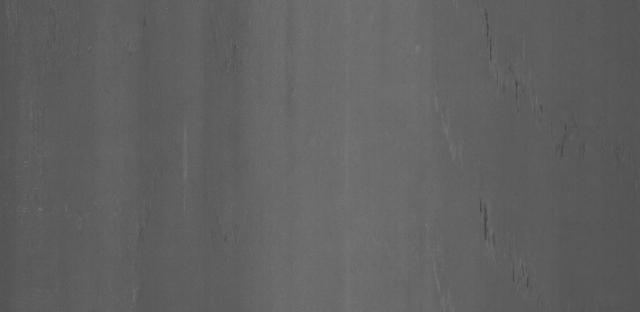silk_spot: (459, 12, 540, 94), (424, 87, 478, 183), (445, 198, 523, 258), (408, 247, 467, 312)
